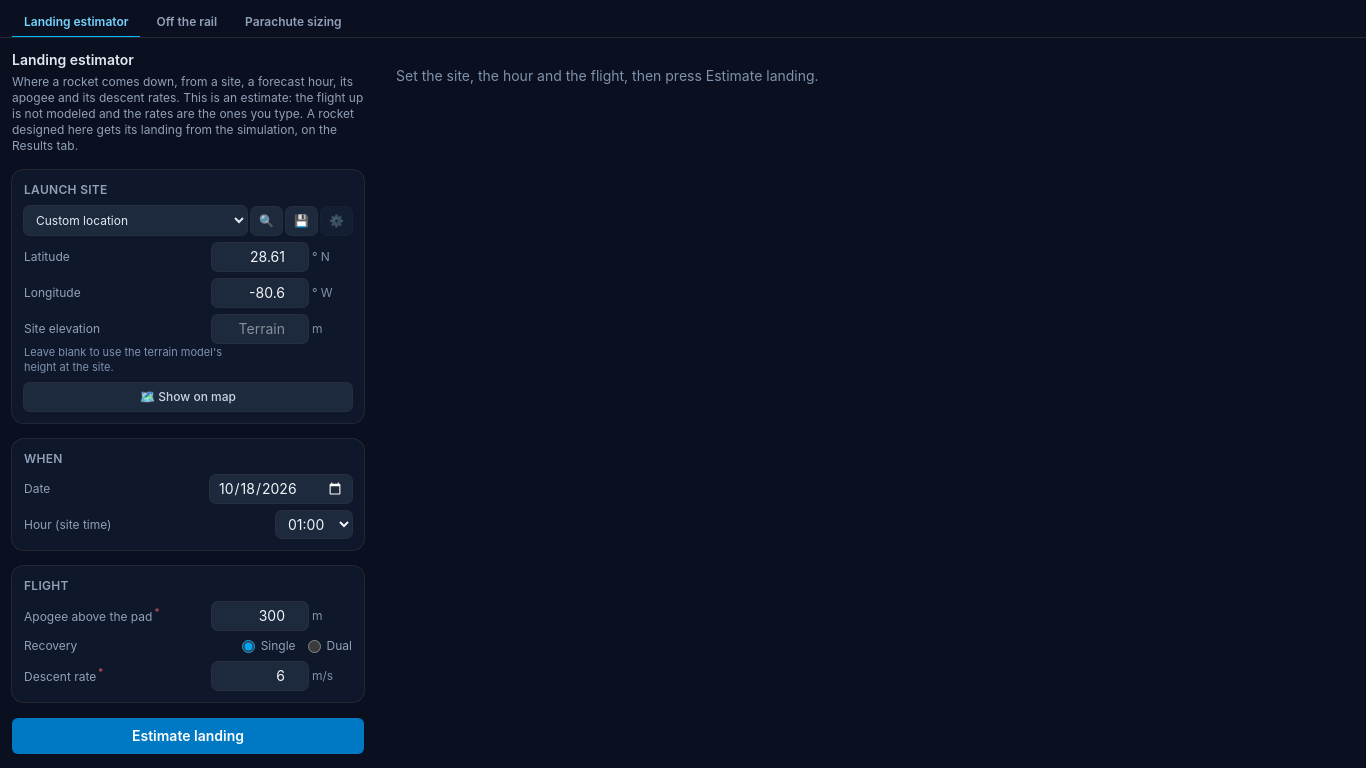
it: the Tools tab › sizes a parachute from typed inputs, and rates a canopy given one
This screenshot has width=1366, height=768.
Click the tab "Parachute sizing" at (293, 23), box x1=233 y1=8 x2=354 y2=38
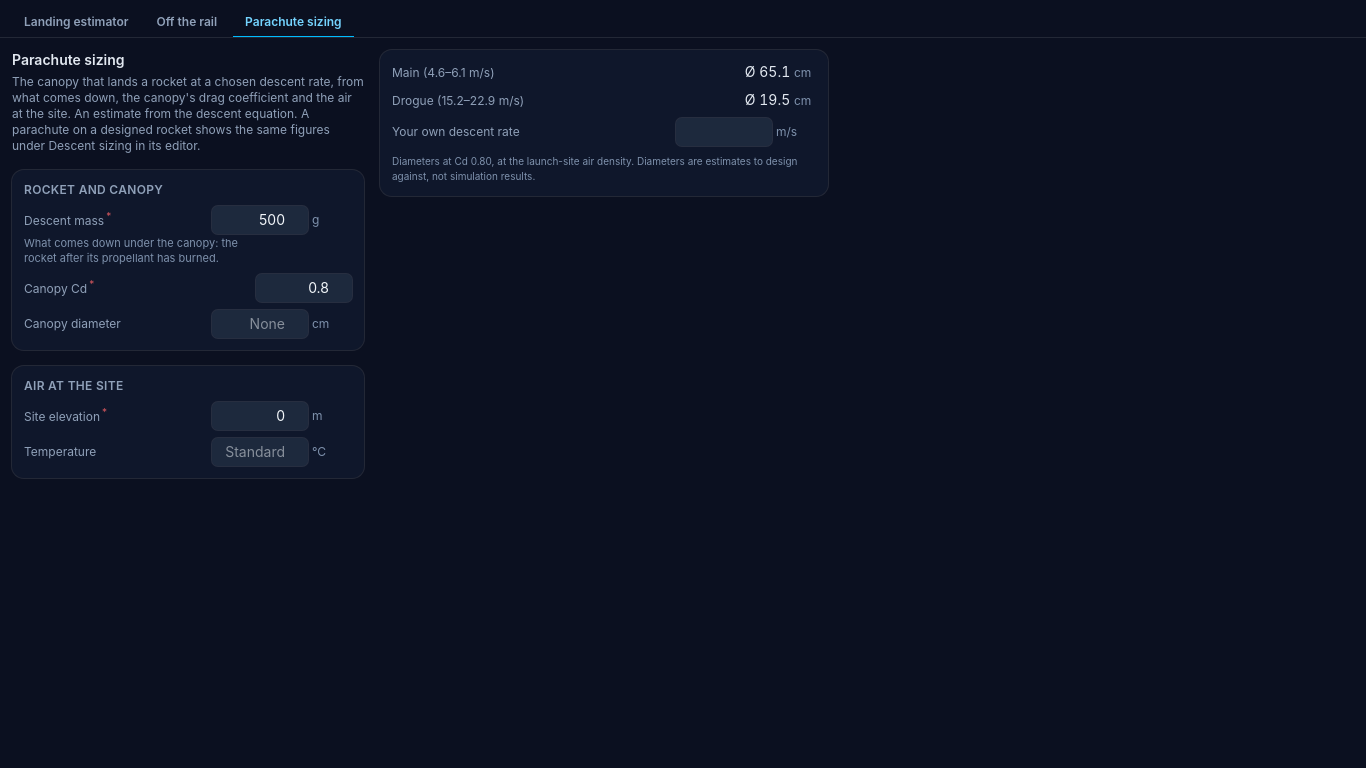
Expected: the element "Parachute sizing result" does not show "This canopy"
Expected: the element named "Parachute sizing result" shows "Main (", x1=392 y1=65 x2=494 y2=80
Type "60" into the number field labelled "Canopy diameter" at (260, 324), box x1=212 y1=310 x2=308 y2=338
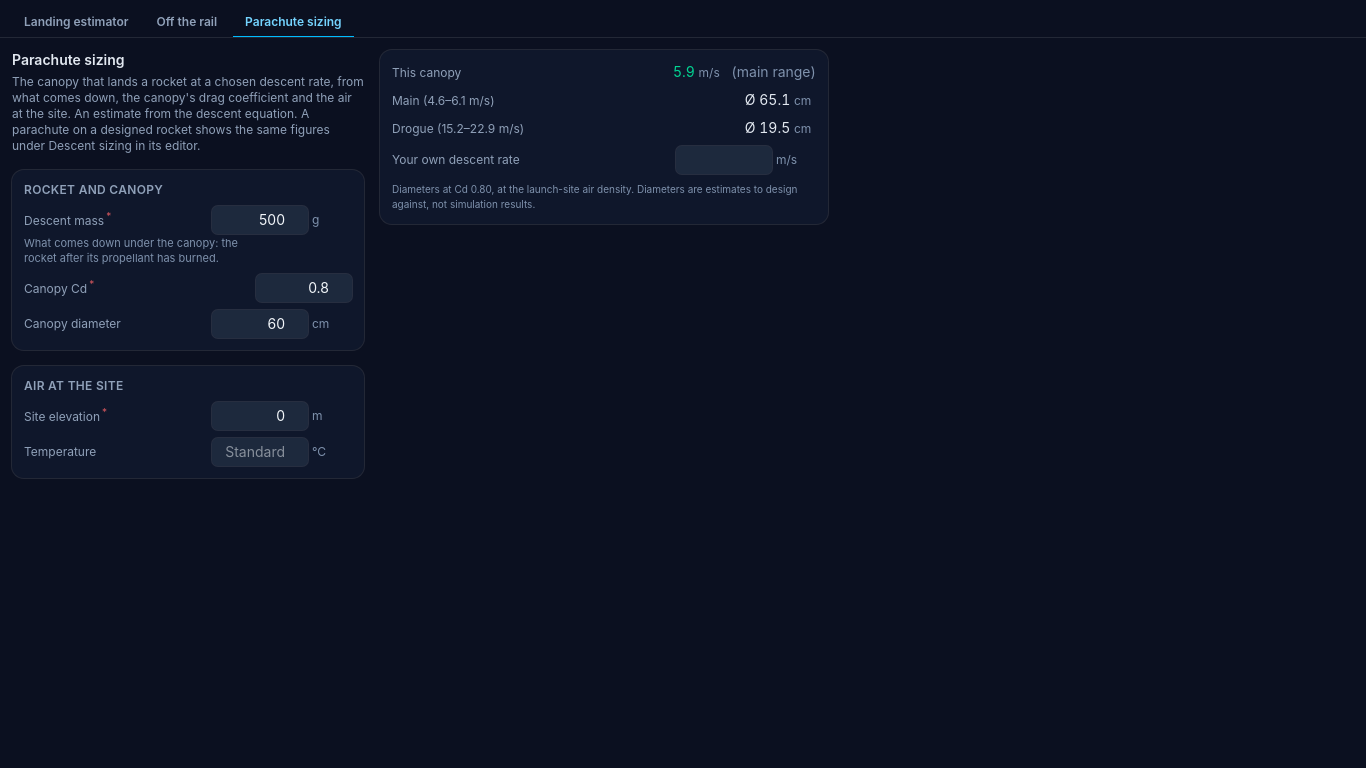
Expected: the element named "Parachute sizing result" shows "This canopy", x1=392 y1=65 x2=461 y2=80
